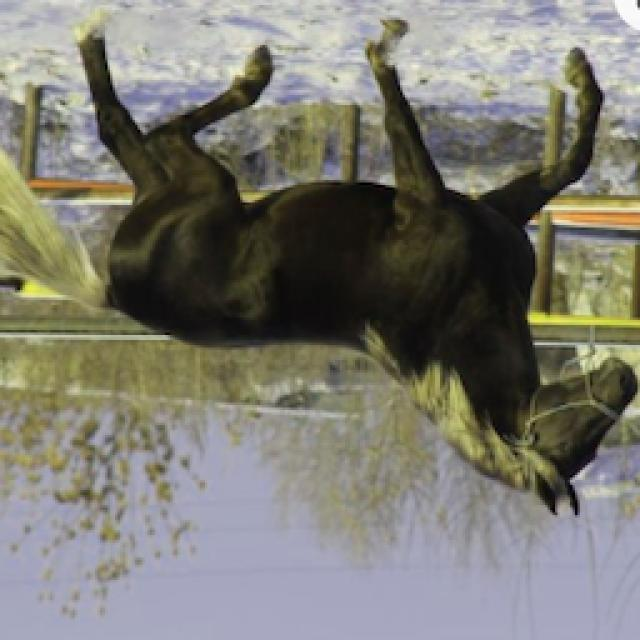Horse: (0, 10, 638, 522)
